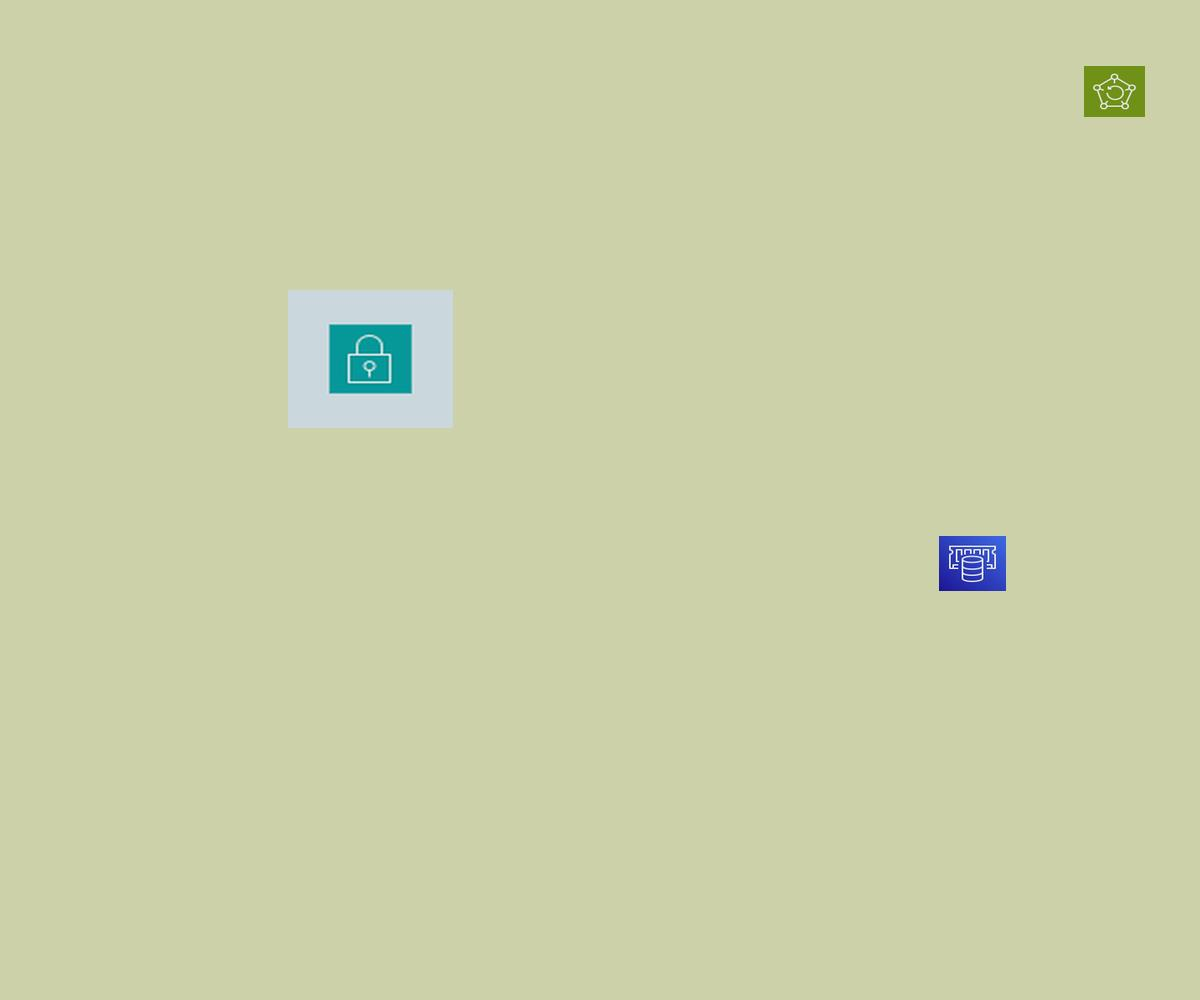AWS-Backup: (1084, 66, 1145, 117)
AWS-ElastiCache: (939, 536, 1006, 591)
AWS-Private-subnet: (288, 290, 453, 428)
